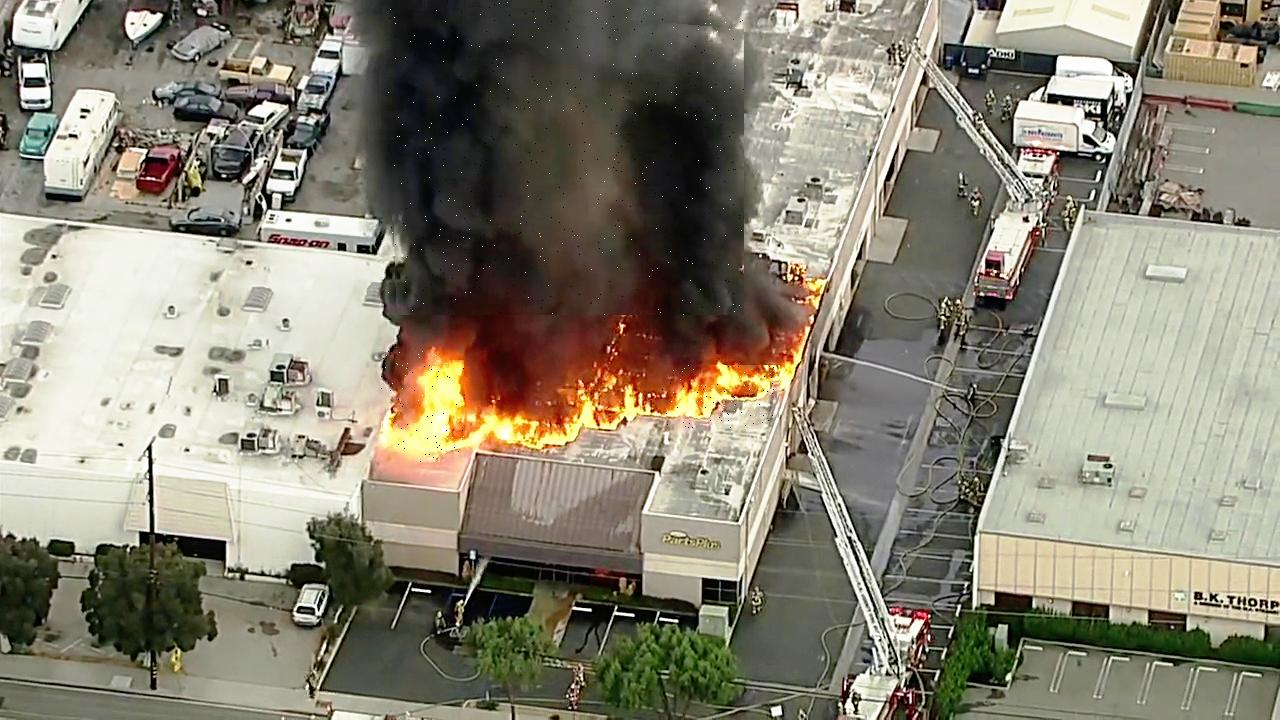fire: (381, 350, 465, 463), (661, 365, 780, 428)
smoke: (387, 0, 744, 315)
